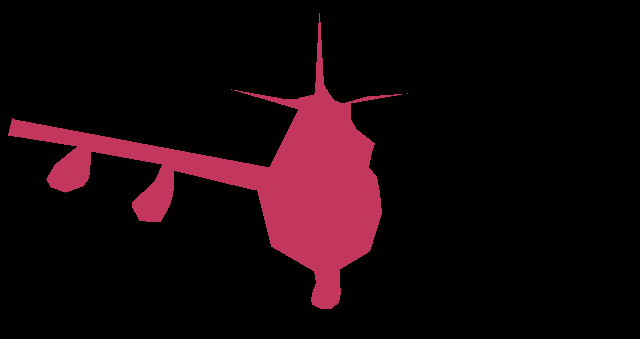Airplane: (8, 13, 408, 308)
